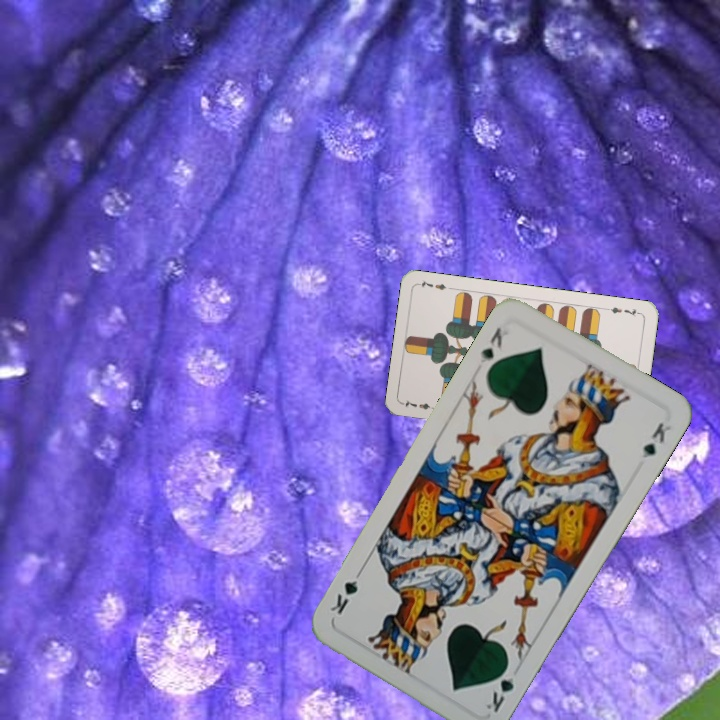E7: (602, 303, 643, 319), (399, 396, 440, 412)
GK: (482, 659, 517, 716), (476, 322, 505, 366)
